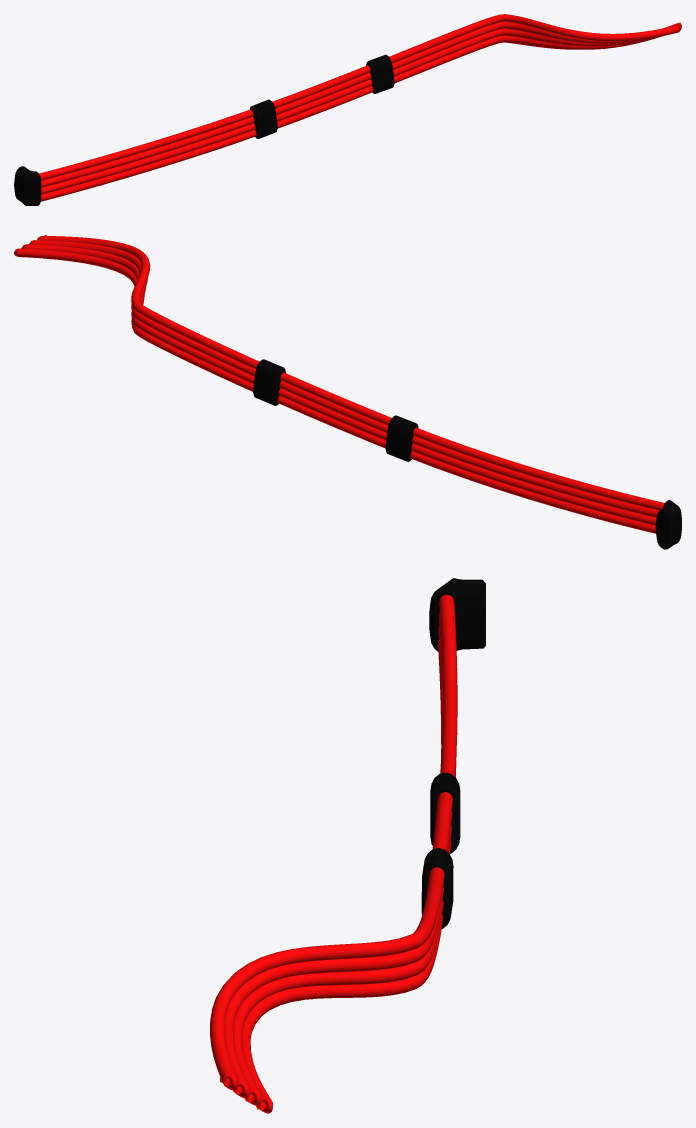
Rendered from wires_sparkPlugs-2.obj.
3 views of the same model, one above another, from view 1: azimuth 30°, elevation 25°; view 2: azimuth 150°, elevation 25°; view 3: azimuth 270°, elevation 25° (orthographic). The views are drawn at different scales.
Parts seen in each view (by area): view 1: BezierCurve.007, Cube.015, Cube.017, Cube.016; view 2: BezierCurve.007, Cube.016, Cube.017, Cube.015; view 3: BezierCurve.007, Cube.015, Cube.016, Cube.017.
Boxes of the visible parts, x1,y1,x2,y2 form: BezierCurve.007: [39, 14, 681, 201]; Cube.015: [14, 166, 41, 205]; Cube.017: [366, 54, 394, 93]; Cube.016: [249, 99, 277, 138]; BezierCurve.007: [14, 235, 664, 533]; Cube.016: [385, 415, 418, 461]; Cube.017: [253, 359, 285, 405]; Cube.015: [655, 499, 681, 549]; BezierCurve.007: [210, 594, 457, 1113]; Cube.015: [429, 578, 485, 651]; Cube.016: [430, 772, 460, 853]; Cube.017: [421, 848, 453, 928].
Bounding box in the file's own units: 0.6573 × 0.0904 × 0.128.
